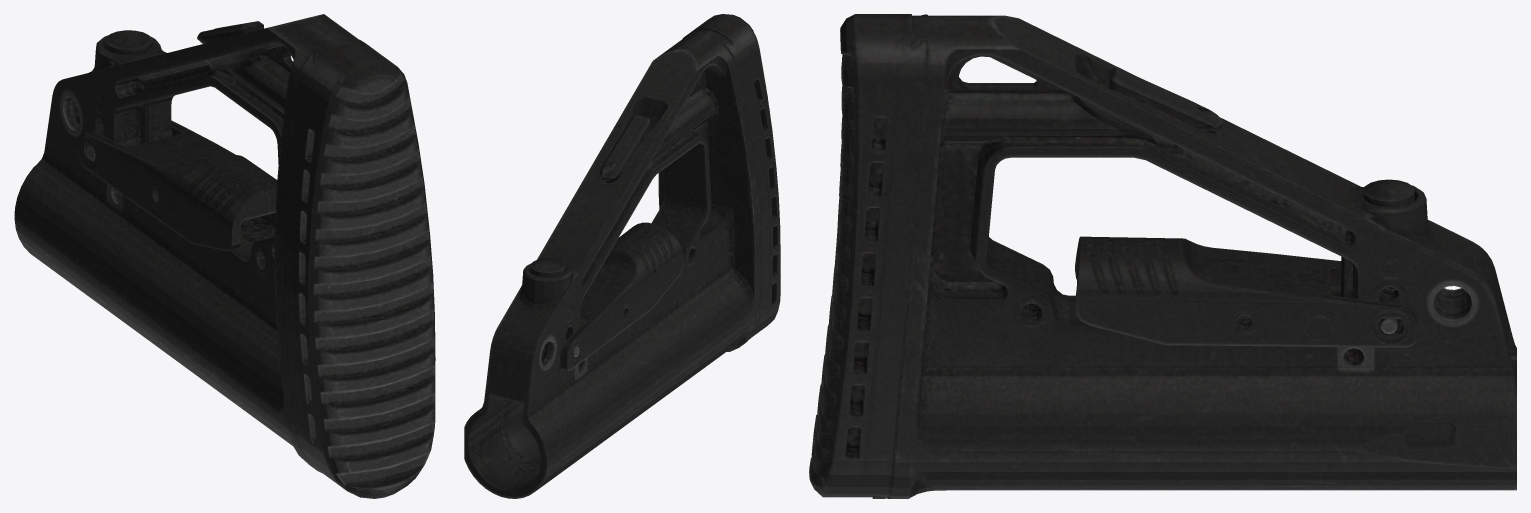
The picture shows the model from 3 angles, left to right: view 1: azimuth 30°, elevation 25°; view 2: azimuth 150°, elevation 25°; view 3: azimuth 270°, elevation 25°; orthographic projection. The views are drawn at different scales.
Parts seen in each view (by area): view 1: TW_5beec8c20db834001d2c465c_PZ_Import; view 2: TW_5beec8c20db834001d2c465c_PZ_Import; view 3: TW_5beec8c20db834001d2c465c_PZ_Import.
Boxes of the visible parts, x1,y1,x2,y2 form: TW_5beec8c20db834001d2c465c_PZ_Import: (14, 14, 435, 498); TW_5beec8c20db834001d2c465c_PZ_Import: (464, 14, 780, 498); TW_5beec8c20db834001d2c465c_PZ_Import: (809, 14, 1516, 498).
Size of the model in its own units: 0.023 by 0.1015 by 0.0749.
1 material, 1 textured.
